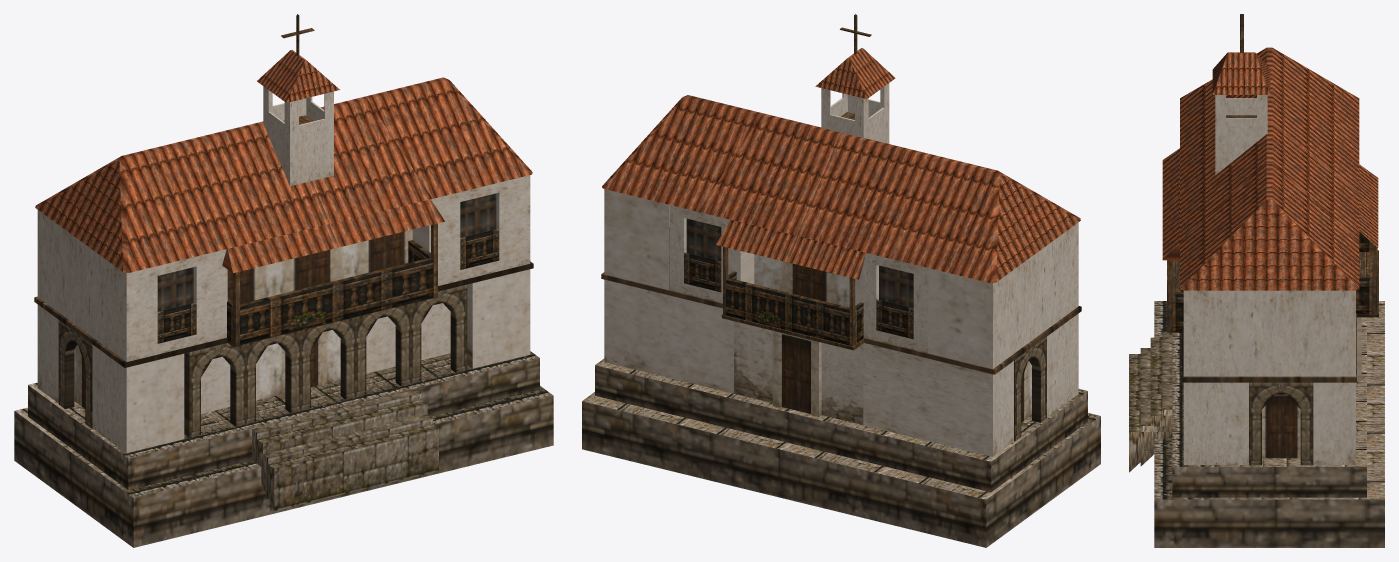
3 views of the same model, side by side, from view 1: azimuth 30°, elevation 25°; view 2: azimuth 150°, elevation 25°; view 3: azimuth 270°, elevation 25° (orthographic). The views are drawn at different scales.
Visible parts, largest first — view 1: cc; view 2: cc; view 3: cc.
Part boxes in pixels (x1,y1,x2,y2): cc: (14, 14, 553, 547); cc: (582, 14, 1100, 547); cc: (1129, 14, 1384, 547).
Size of the model in its own units: 26.78 by 14.59 by 27.35.
1 material, 1 textured.
